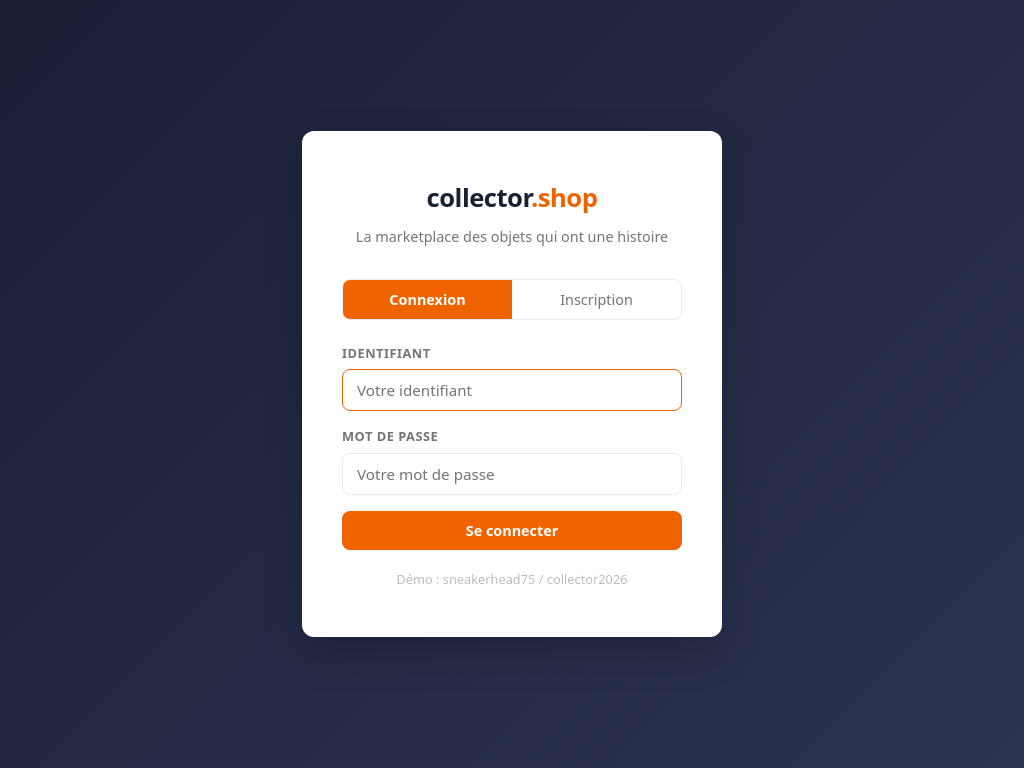
Test case: LoginPage Component › affiche une erreur API (ex: 401 Unauthorized)
Type "user" into the field with placeholder "Votre identifiant".
click(512, 390); type("user")  # box top-left (342, 369), bottom-right (682, 411)
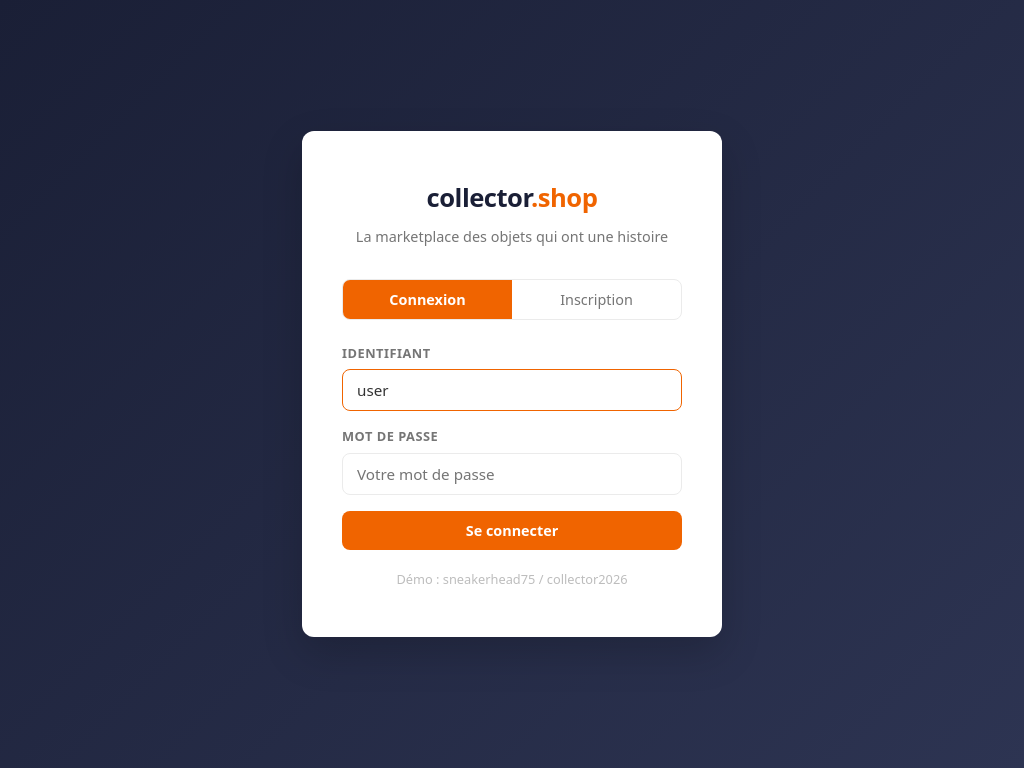
Type "wrongpass" into the password field with placeholder "Votre mot de passe".
click(512, 474); type("wrongpass")  # box top-left (342, 453), bottom-right (682, 495)
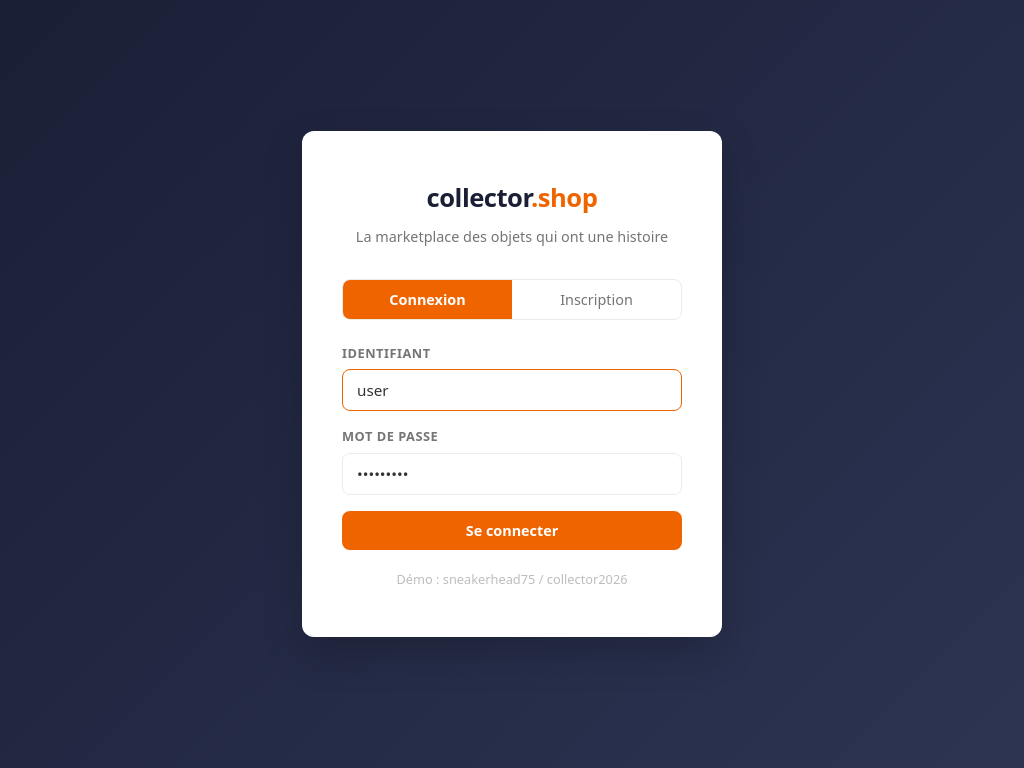
Click the button "Se connecter".
click(512, 530)  # box top-left (342, 511), bottom-right (682, 550)
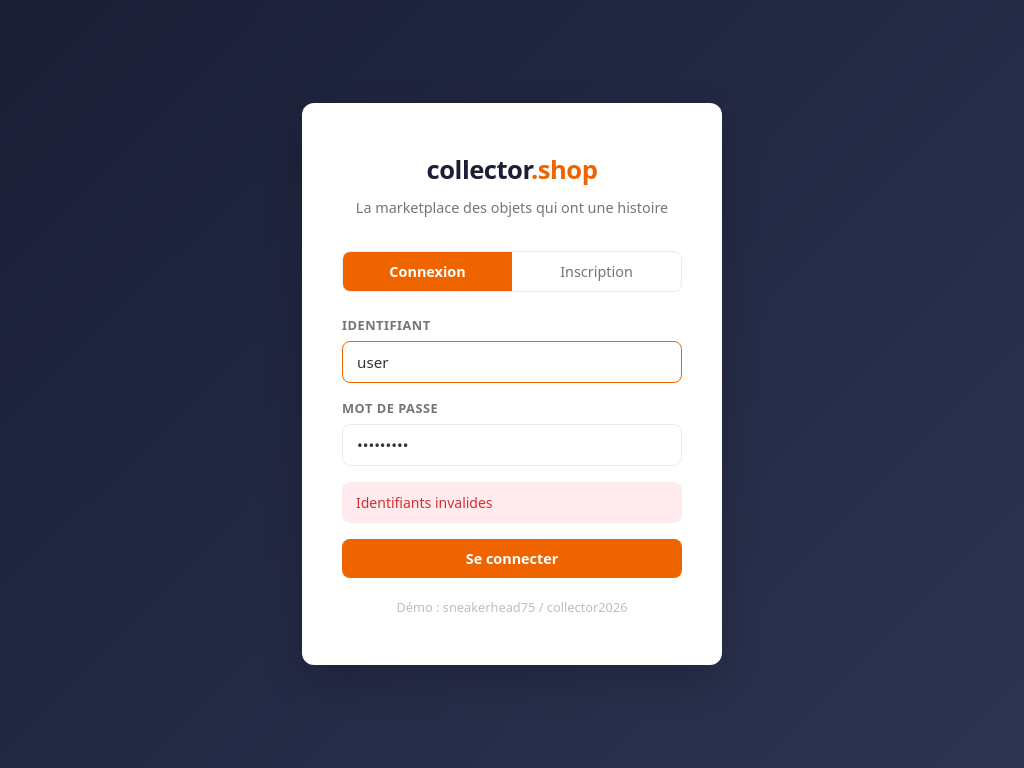
Expected: the text "Identifiants invalides" is shown, top-left (342, 482), bottom-right (682, 523)
